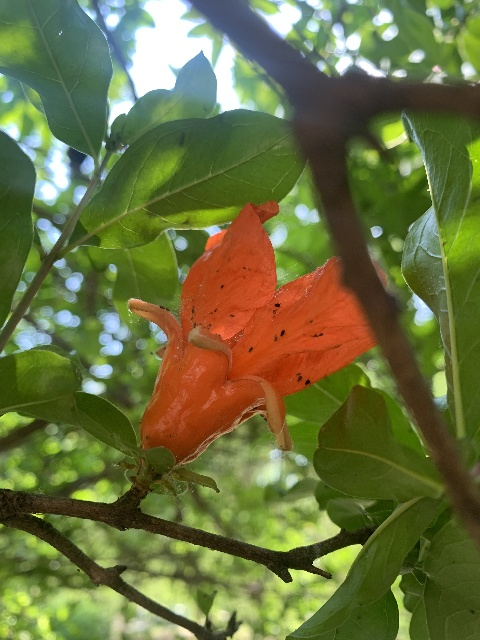flower: (127, 199, 387, 468)
